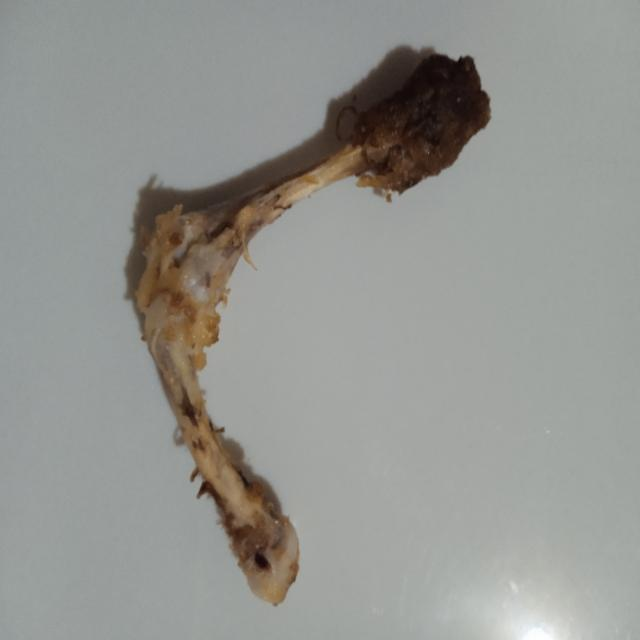bone: (122, 42, 502, 611)
